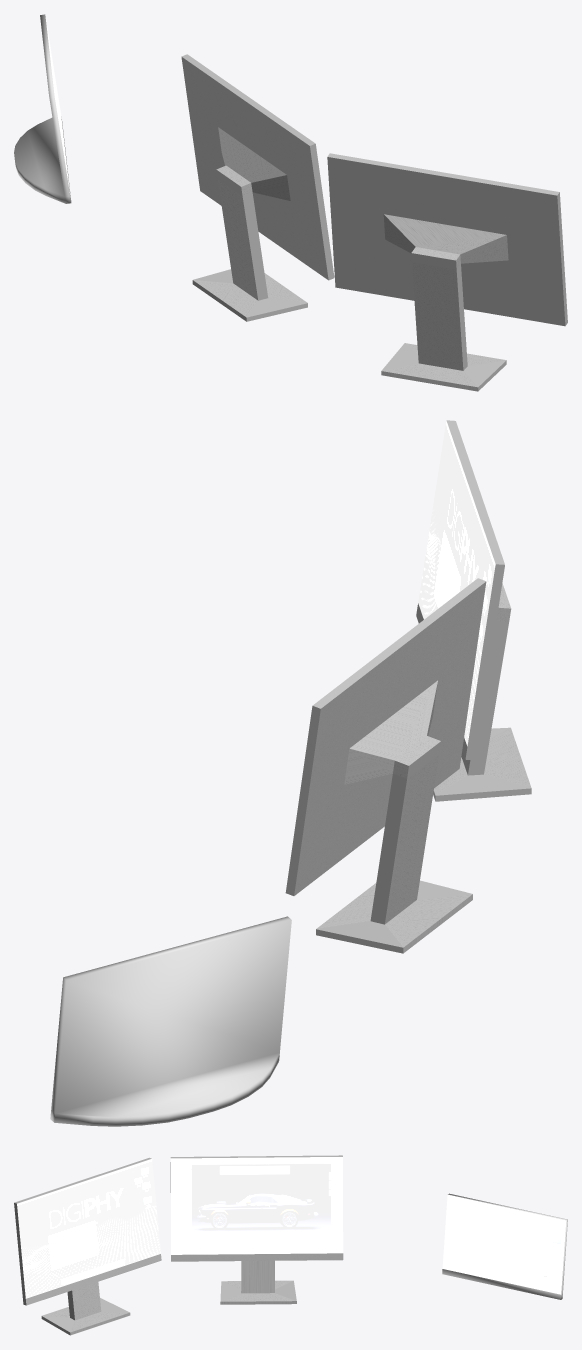
Rendered from computers.glb.
The picture shows the model from 3 angles, top to bottom: view 1: azimuth 30°, elevation 25°; view 2: azimuth 150°, elevation 25°; view 3: azimuth 270°, elevation 25°; orthographic projection. The views are drawn at different scales.
Parts seen in each view (by area): view 1: intro screen three.002, intro screen one.001, intro screen two.001; view 2: intro screen one.001, intro screen two.001, intro screen three.002; view 3: intro screen one.001, intro screen three.002, intro screen two.001.
Part boxes in pixels (x1=…): intro screen three.002: x1=327, y1=153, x2=567, y2=391; intro screen one.001: x1=181, y1=54, x2=334, y2=321; intro screen two.001: x1=14, y1=14, x2=71, y2=203; intro screen one.001: x1=285, y1=578, x2=486, y2=953; intro screen two.001: x1=50, y1=916, x2=291, y2=1126; intro screen three.002: x1=416, y1=420, x2=531, y2=801; intro screen one.001: x1=170, y1=1155, x2=343, y2=1304; intro screen three.002: x1=14, y1=1157, x2=161, y2=1335; intro screen two.001: x1=442, y1=1193, x2=567, y2=1299.
Bounding box in the file's own units: 2 × 1.75 × 6.44.
Materials: 5 (4 with a texture image).
